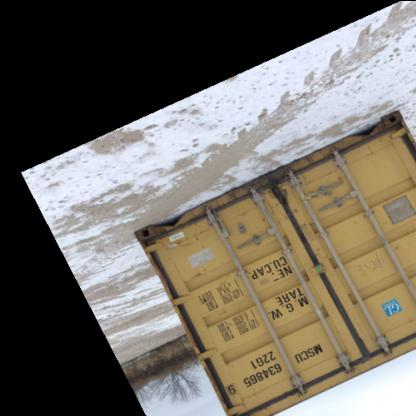Damage: (358, 122, 399, 156), (300, 215, 326, 262), (352, 250, 384, 278), (292, 170, 342, 187), (168, 231, 209, 249), (229, 204, 248, 238), (187, 265, 209, 282)
